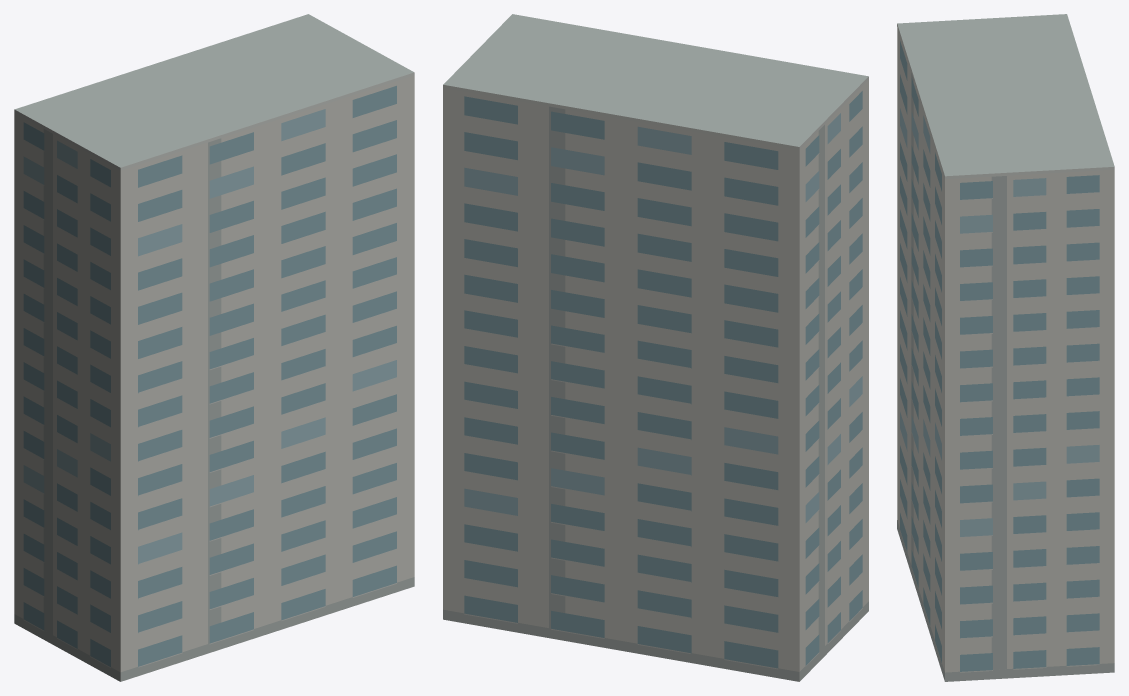
Rendered from residential-9cf2ffef-5595-4bfa-af74-d4ea21db045a.glb.
The picture shows the model from 3 angles, left to right: view 1: azimuth 30°, elevation 25°; view 2: azimuth 150°, elevation 25°; view 3: azimuth 270°, elevation 25°; orthographic projection. The views are drawn at different scales.
Parts seen in each view (by area): view 1: residential-9cf2ffef-5595-4bfa-af74-d4ea21db045a.tmp; view 2: residential-9cf2ffef-5595-4bfa-af74-d4ea21db045a.tmp; view 3: residential-9cf2ffef-5595-4bfa-af74-d4ea21db045a.tmp.
Boxes of the visible parts, x1=… form: residential-9cf2ffef-5595-4bfa-af74-d4ea21db045a.tmp: x1=14, y1=14, x2=414, y2=681; residential-9cf2ffef-5595-4bfa-af74-d4ea21db045a.tmp: x1=443, y1=14, x2=868, y2=681; residential-9cf2ffef-5595-4bfa-af74-d4ea21db045a.tmp: x1=897, y1=14, x2=1114, y2=681.
Bounding box in the file's own units: 27.53 × 40 × 15.61.
